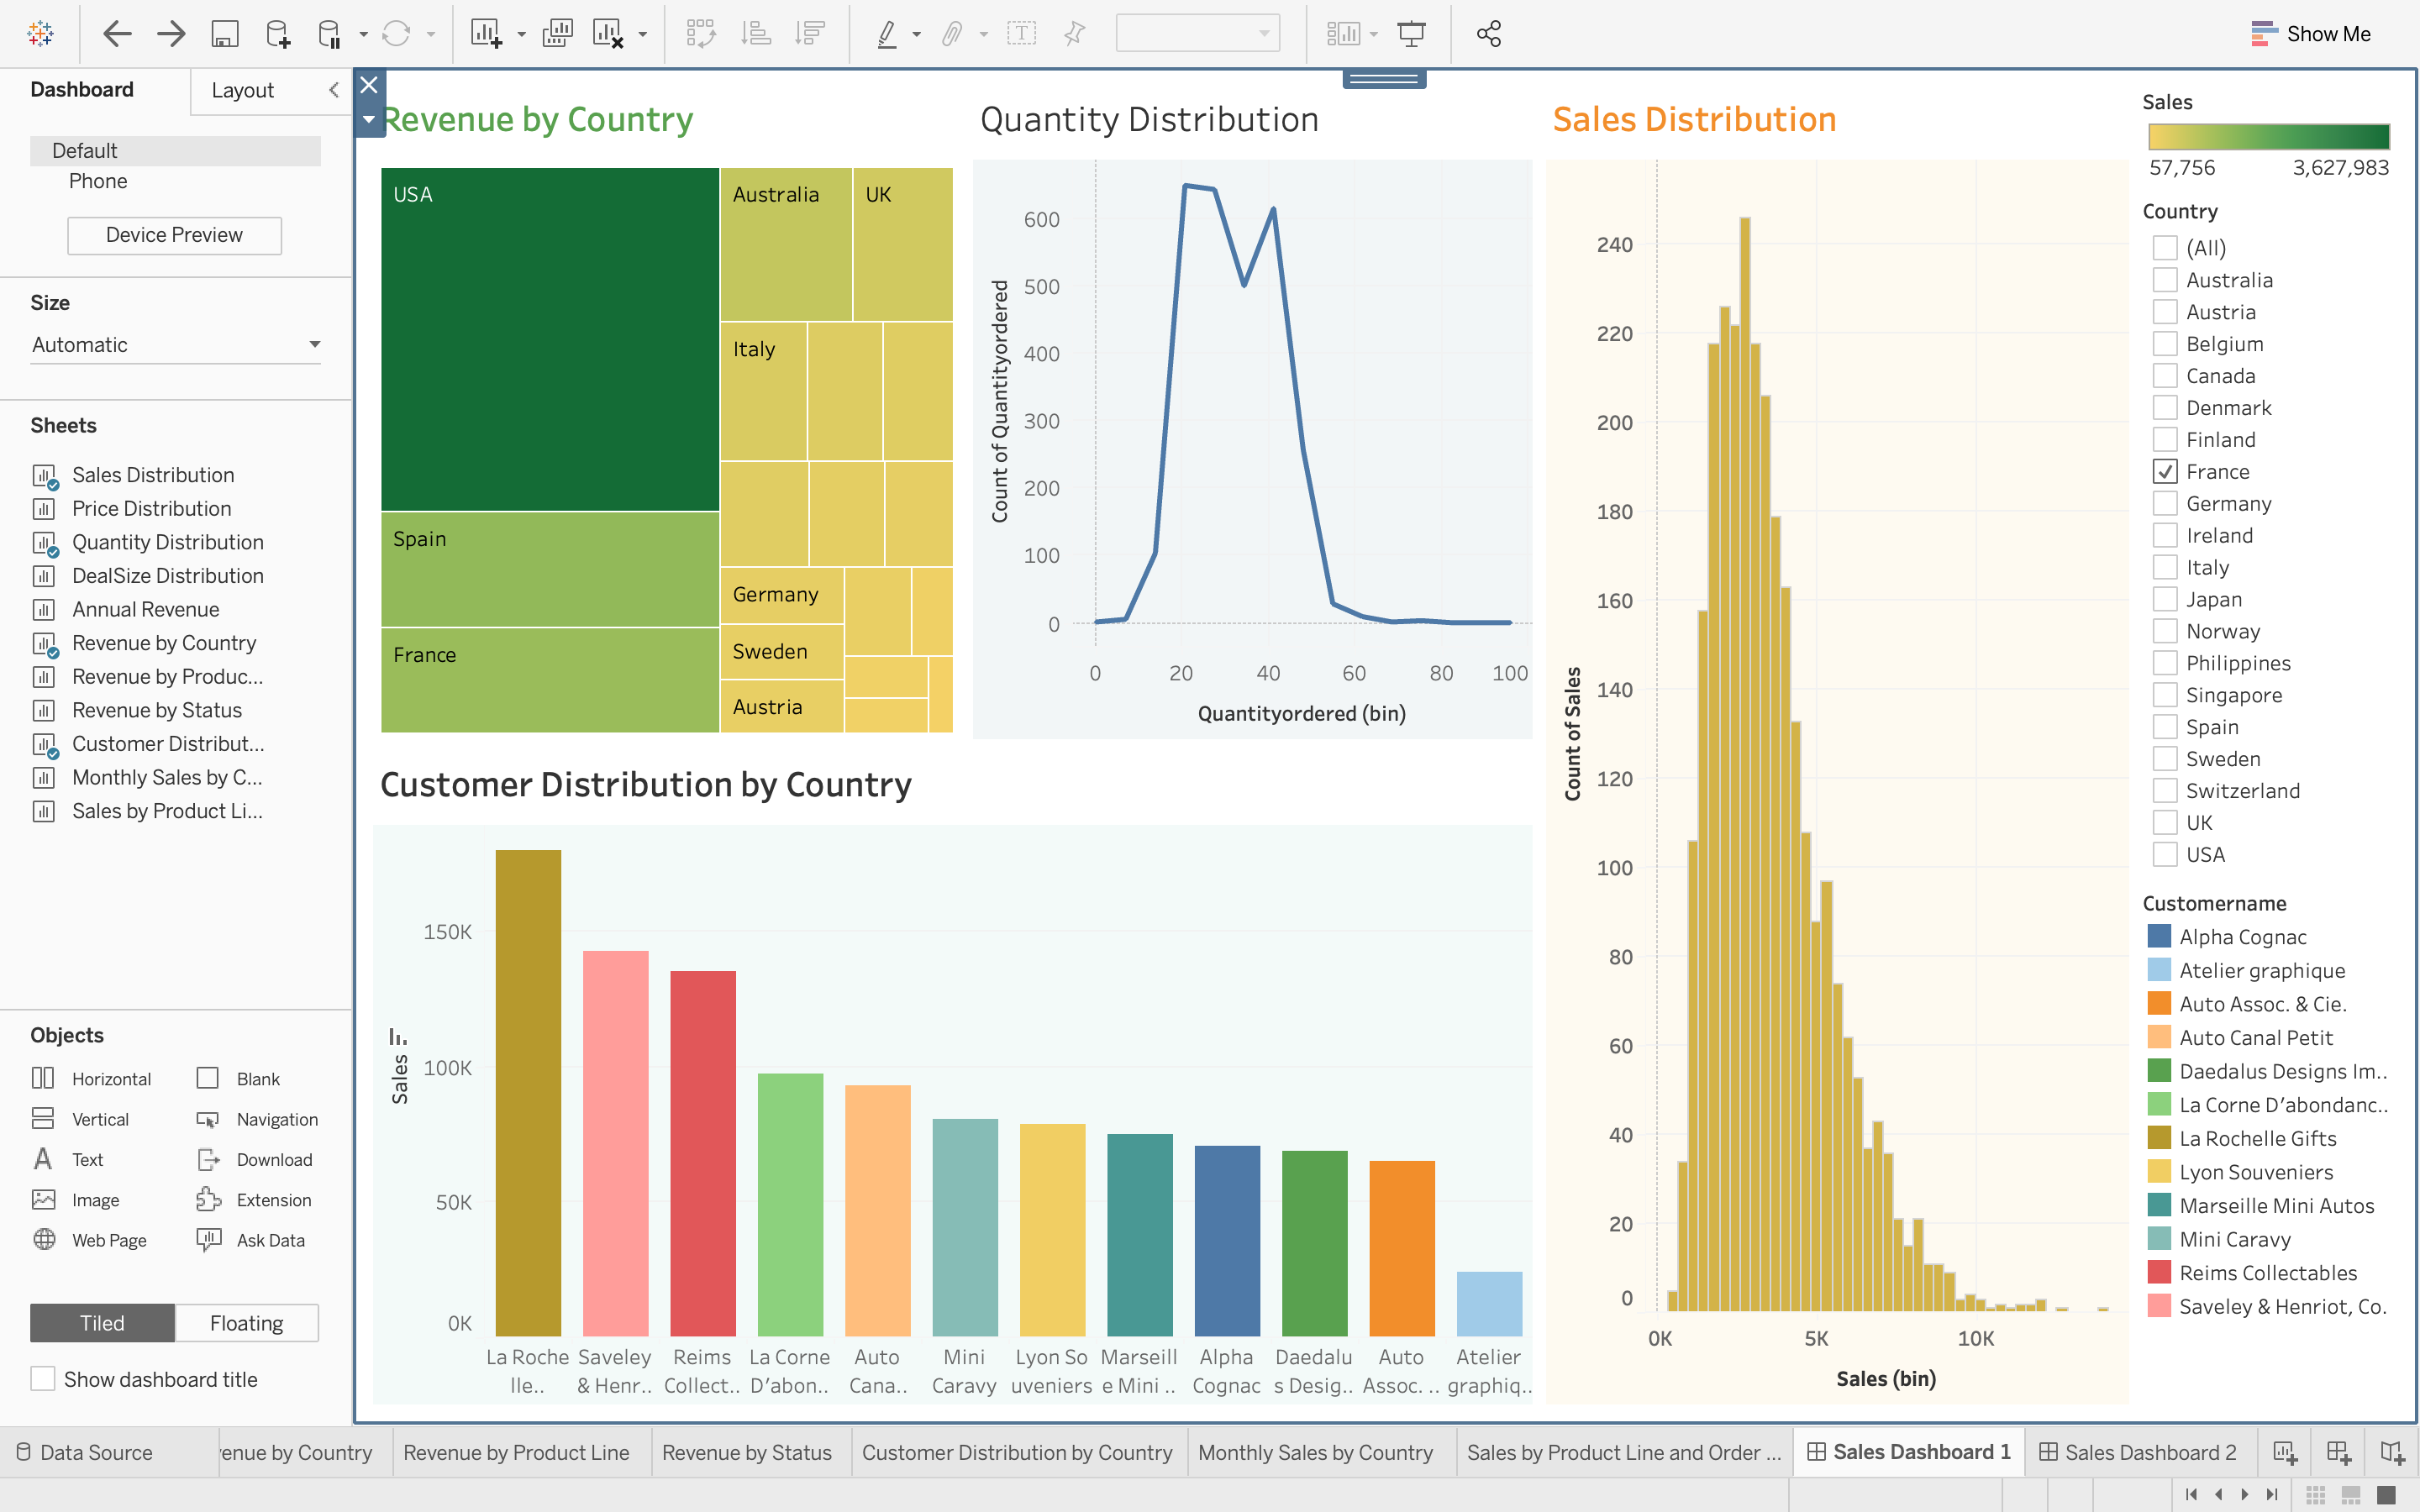

The page's visual inventory and layout, read from the dashboard file:
{"tool":"tableau","page":{"name":"Sales Dashboard 1","canvas":[1000,1000],"units":"permille","ordinal":0},"visuals":[{"type":"worksheet","title":"Revenue by Country","mark":"Automatic","box":[6.5,9.9,290.5,490.1]},{"type":"worksheet","title":"Quantity Distribution","mark":"Line","rows":["QUANTITYORDERED"],"cols":["Quantityordered (bin)"],"box":[297,9.9,277.5,490.1]},{"type":"worksheet","title":"Sales Distribution","mark":"Automatic","rows":["SALES"],"cols":["Sales (bin)"],"box":[574.5,9.9,288.9,980.2]},{"type":"legend","title":"Revenue by Country","param":"[federated.1t8adoc08vdkdy1071w9w01g8w30].[sum:SALES:qk]","box":[863.3,9.9,130.2,80.4]},{"type":"filter","title":"Customer Distribution by Country","param":"[federated.1t8adoc08vdkdy1071w9w01g8w30].[none:COUNTRY:nk]","box":[863.3,90.3,130.2,509.9]},{"type":"worksheet","title":"Customer Distribution by Country","mark":"Automatic","rows":["SALES"],"cols":["CUSTOMERNAME"],"box":[6.5,500,567.9,490.1]},{"type":"legend","title":"Customer Distribution by Country","param":"[federated.1t8adoc08vdkdy1071w9w01g8w30].[none:CUSTOMERNAME:nk]","box":[863.3,600.2,130.2,329.2]}]}

Visuals, with their boxes on the dashboard's canvas, which has no fixed pixel size, in thousandths of its width and height (x1, y1, x2, y2). These are canvas units, not pixel positions in the 2420x1512 screenshot, which may show the page scaled, cropped or inside an application window:
"Revenue by Country" worksheet: bbox(6, 10, 297, 500)
"Quantity Distribution" worksheet (Line marks): bbox(297, 10, 574, 500)
"Sales Distribution" worksheet: bbox(574, 10, 863, 990)
"Revenue by Country" legend: bbox(863, 10, 994, 90)
"Customer Distribution by Country" filter: bbox(863, 90, 994, 600)
"Customer Distribution by Country" worksheet: bbox(6, 500, 574, 990)
"Customer Distribution by Country" legend: bbox(863, 600, 994, 929)
